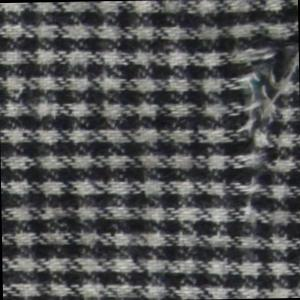Damage: (217, 35, 300, 241)
